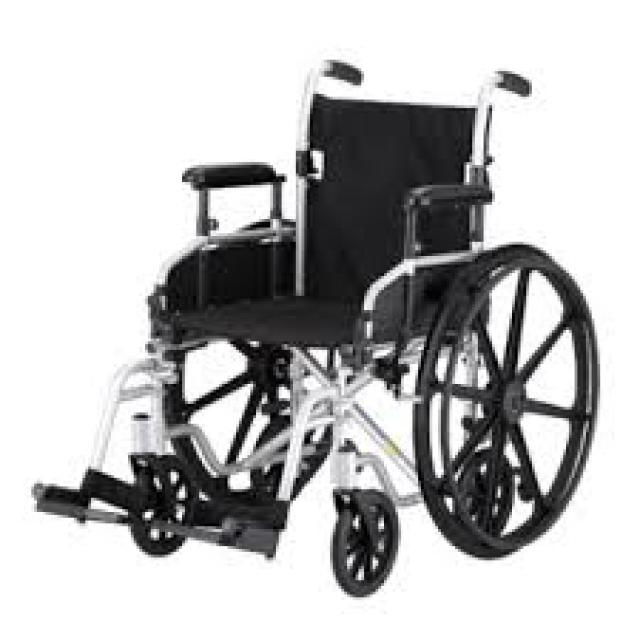wheelchair: (19, 42, 612, 638)
